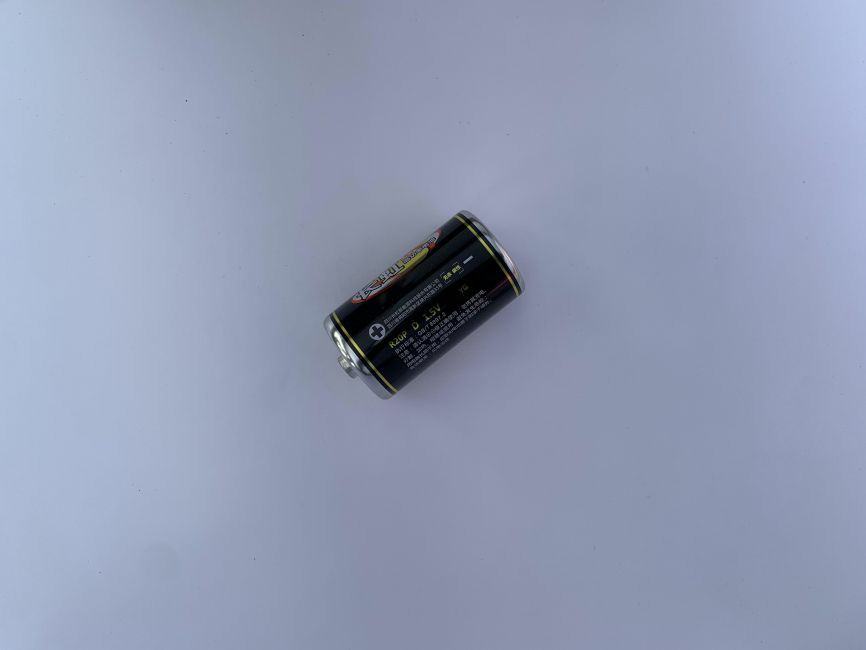charge: (321, 206, 528, 403)
